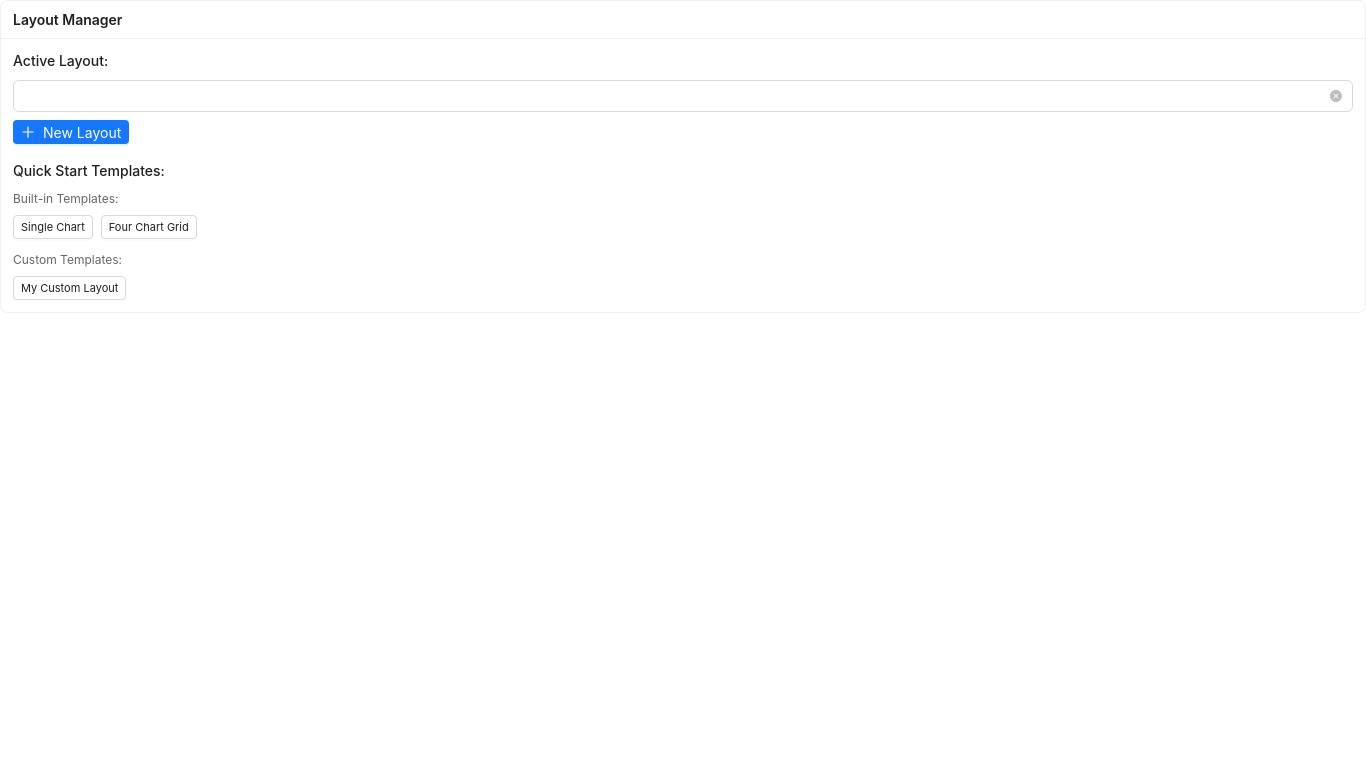
Test: LayoutManager › Layout Creation › should require layout name for creation
Click the button "New Layout" at coordinates (71, 132), box [13,120,129,144]
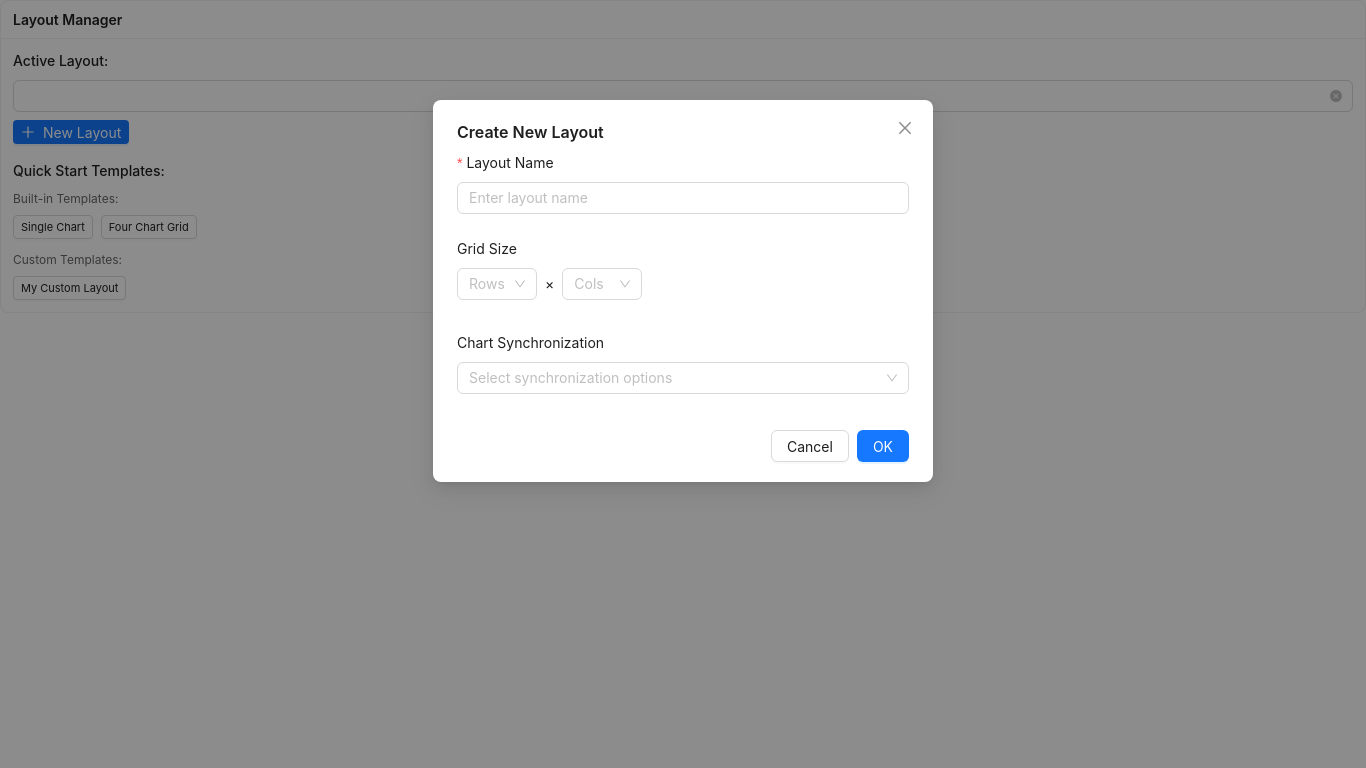
Try to submit without name
Click the button "OK" at coordinates (883, 446), box [857,430,909,462]
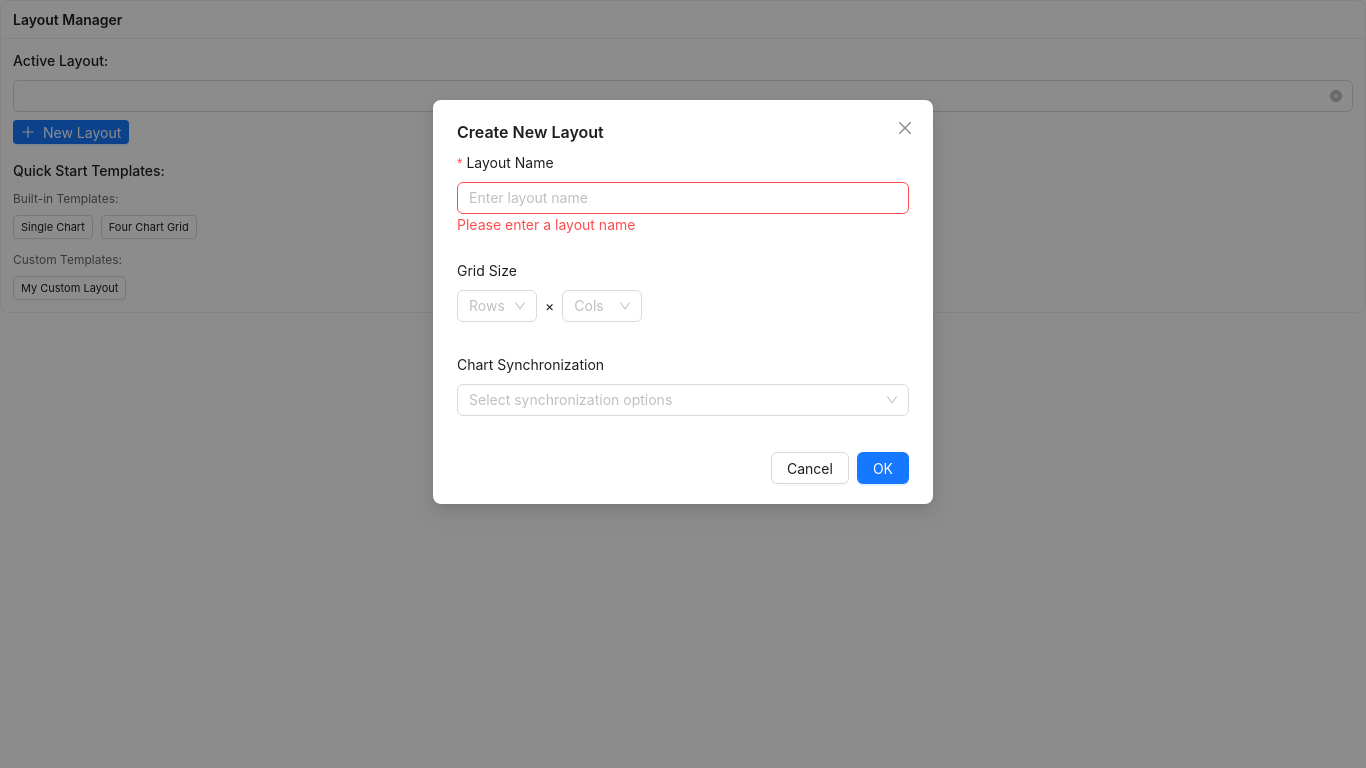
Expected: the text "Please enter a layout name" is shown, [457,216,635,233]
